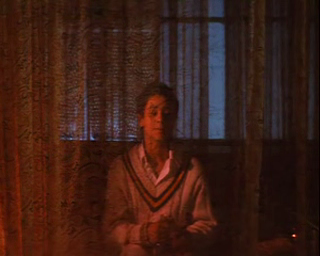face: (146, 102, 172, 138)
ms: (1, 1, 320, 256)
person: (103, 80, 223, 256)
